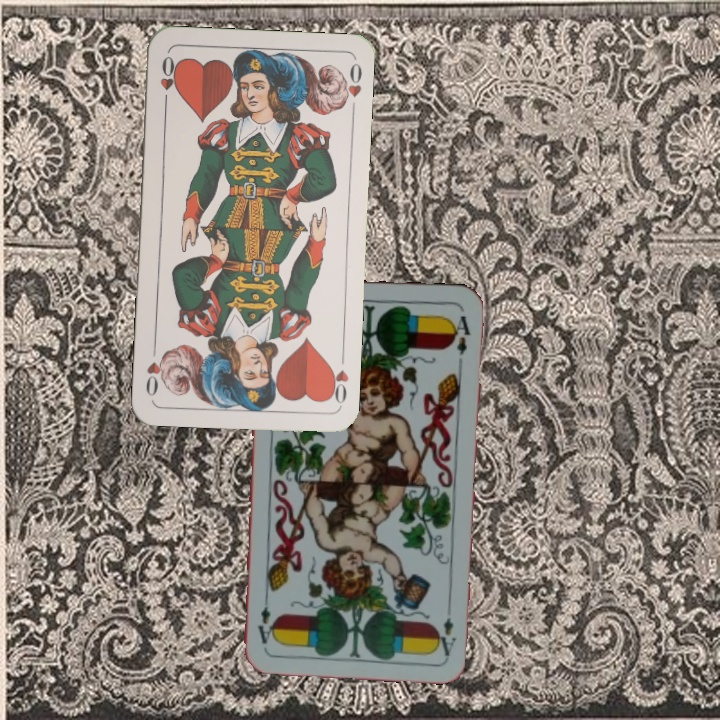EA: (432, 599, 459, 658)
HO: (324, 349, 351, 408), (156, 51, 180, 110)
